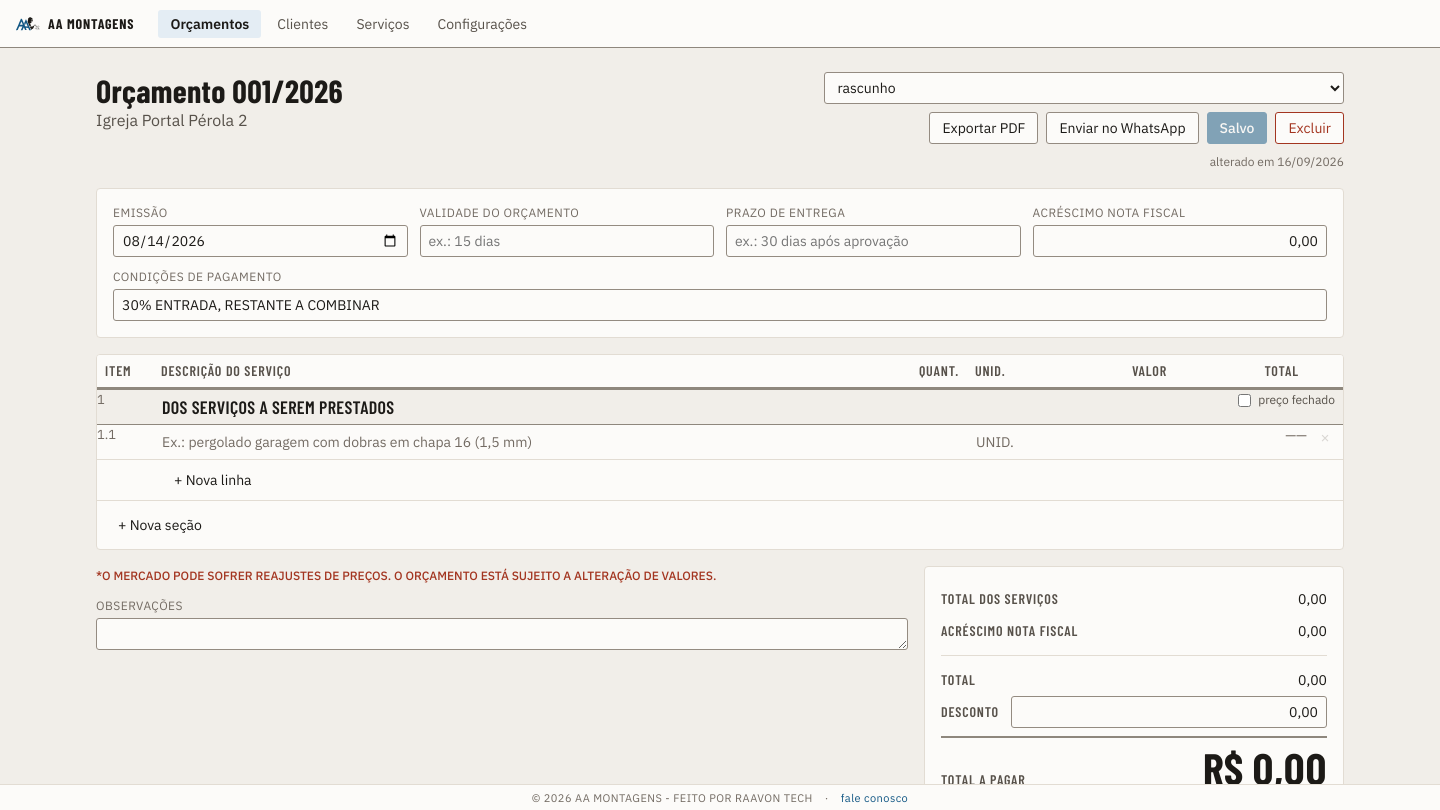
it: excluir orçamento › cancelar não exclui
The image size is (1440, 810).
Check: the heading "Orçamento 001/2026" is shown, box [96,71,343,109]
What coordinates should you click on to do the following:
click the button with aria-label "Excluir o orçamento 001/2026"
I would click on:
 (1310, 128)
Its box is [1276,112,1344,144].
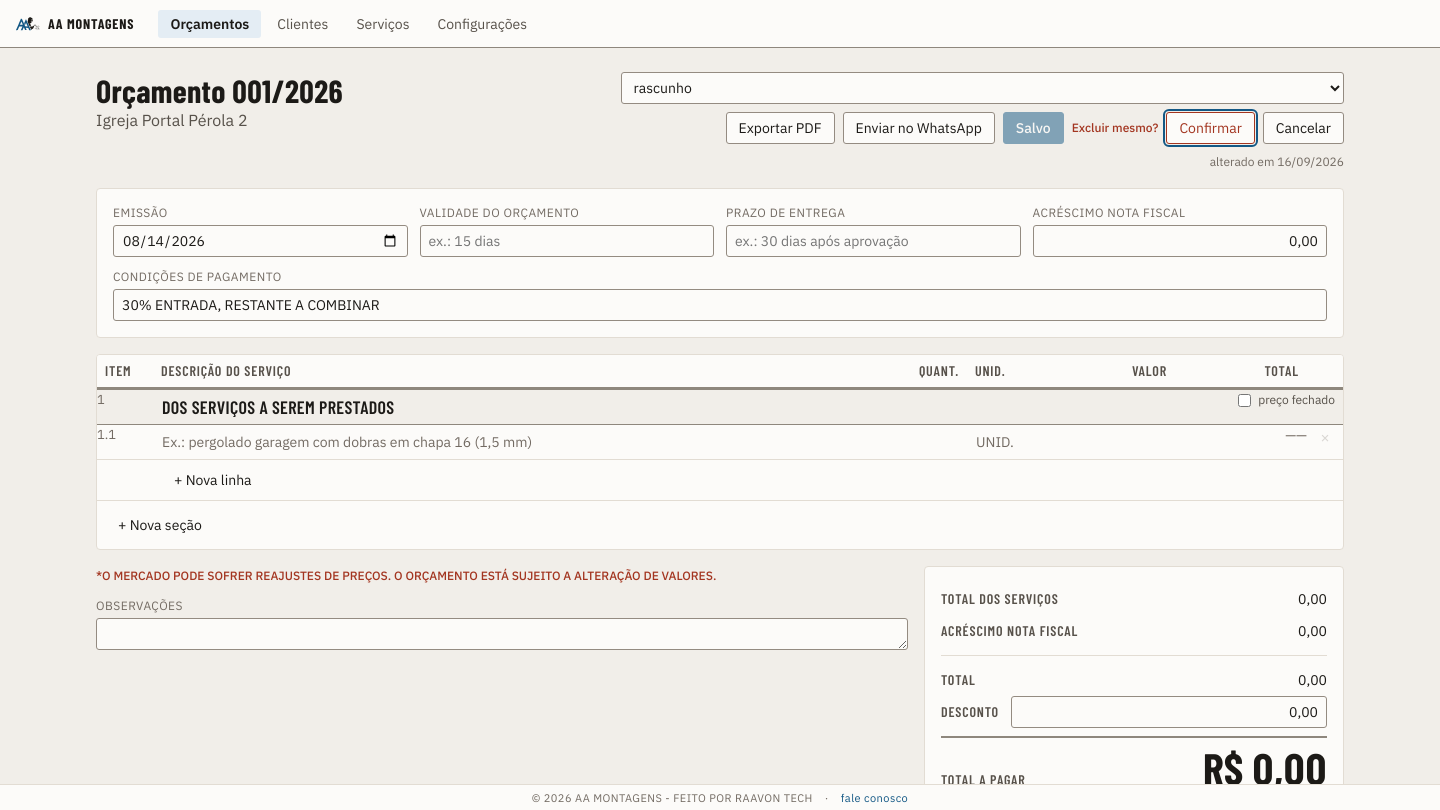
What coordinates should you click on to do the following:
click the button "Cancelar"
I would click on:
 (1303, 128)
Its box is [1263,112,1344,144].
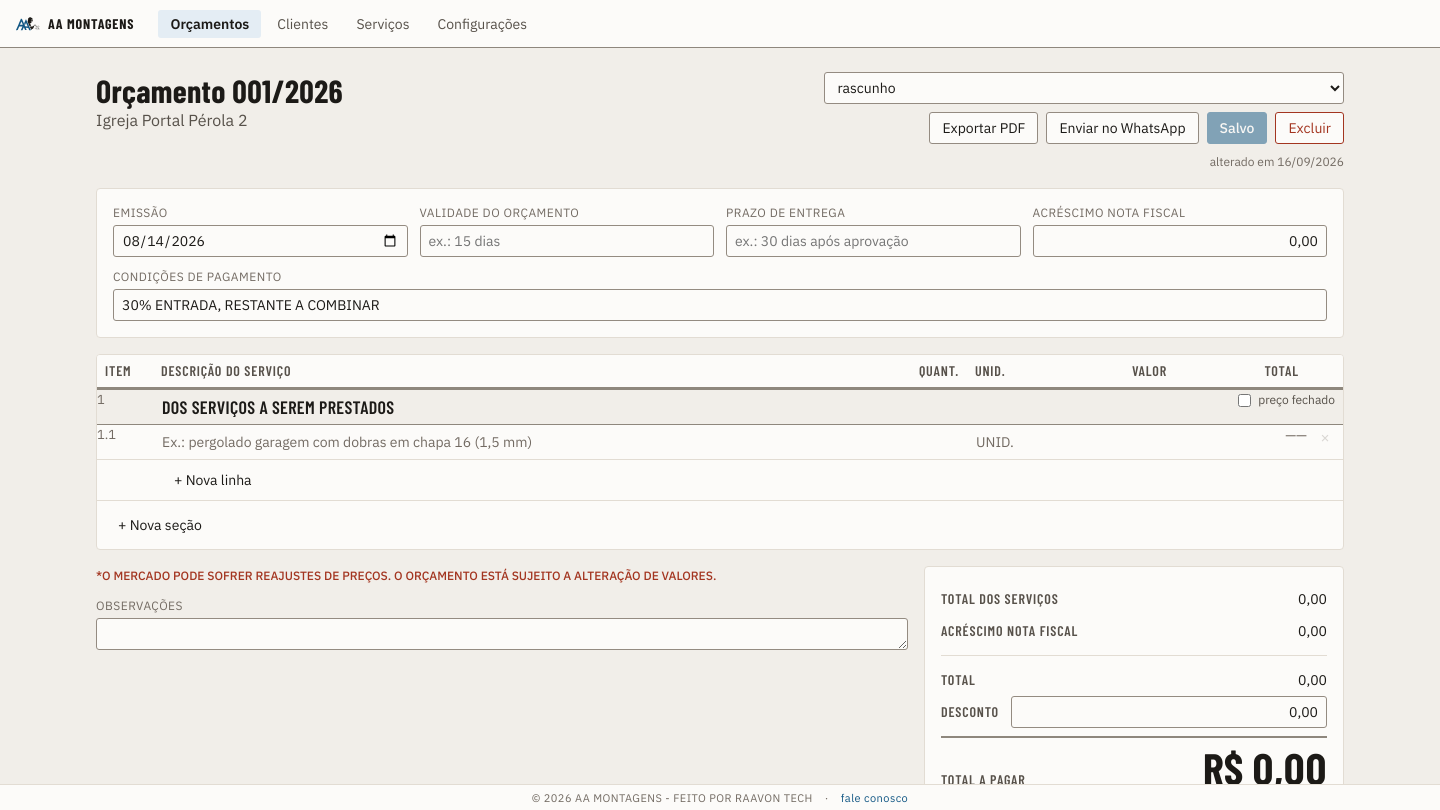
Check: the text "Excluir mesmo?" is gone
